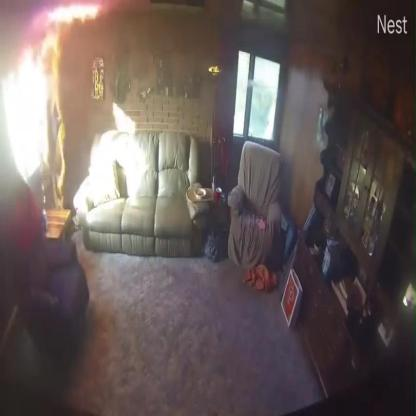fire: (37, 36, 69, 212), (30, 4, 102, 34)
